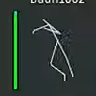hacks_2: (13, 10, 74, 90)
